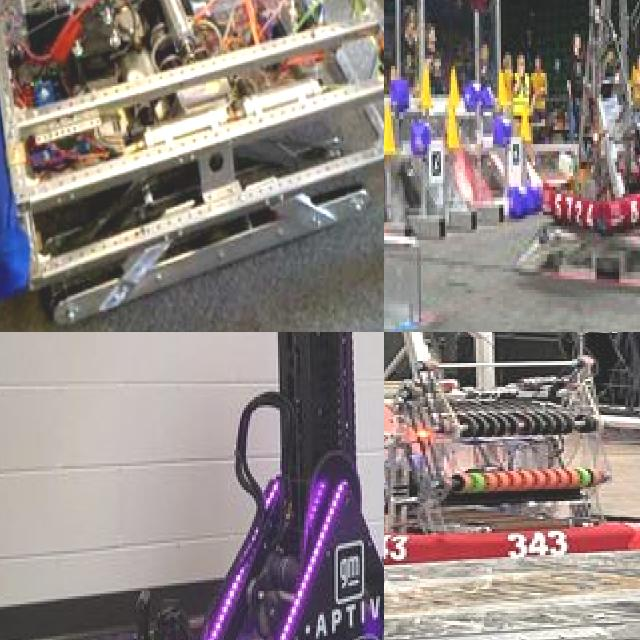FRC-Robots: (0, 0, 384, 332), (76, 332, 384, 640), (384, 332, 640, 567), (516, 0, 640, 252), (591, 0, 640, 216)
